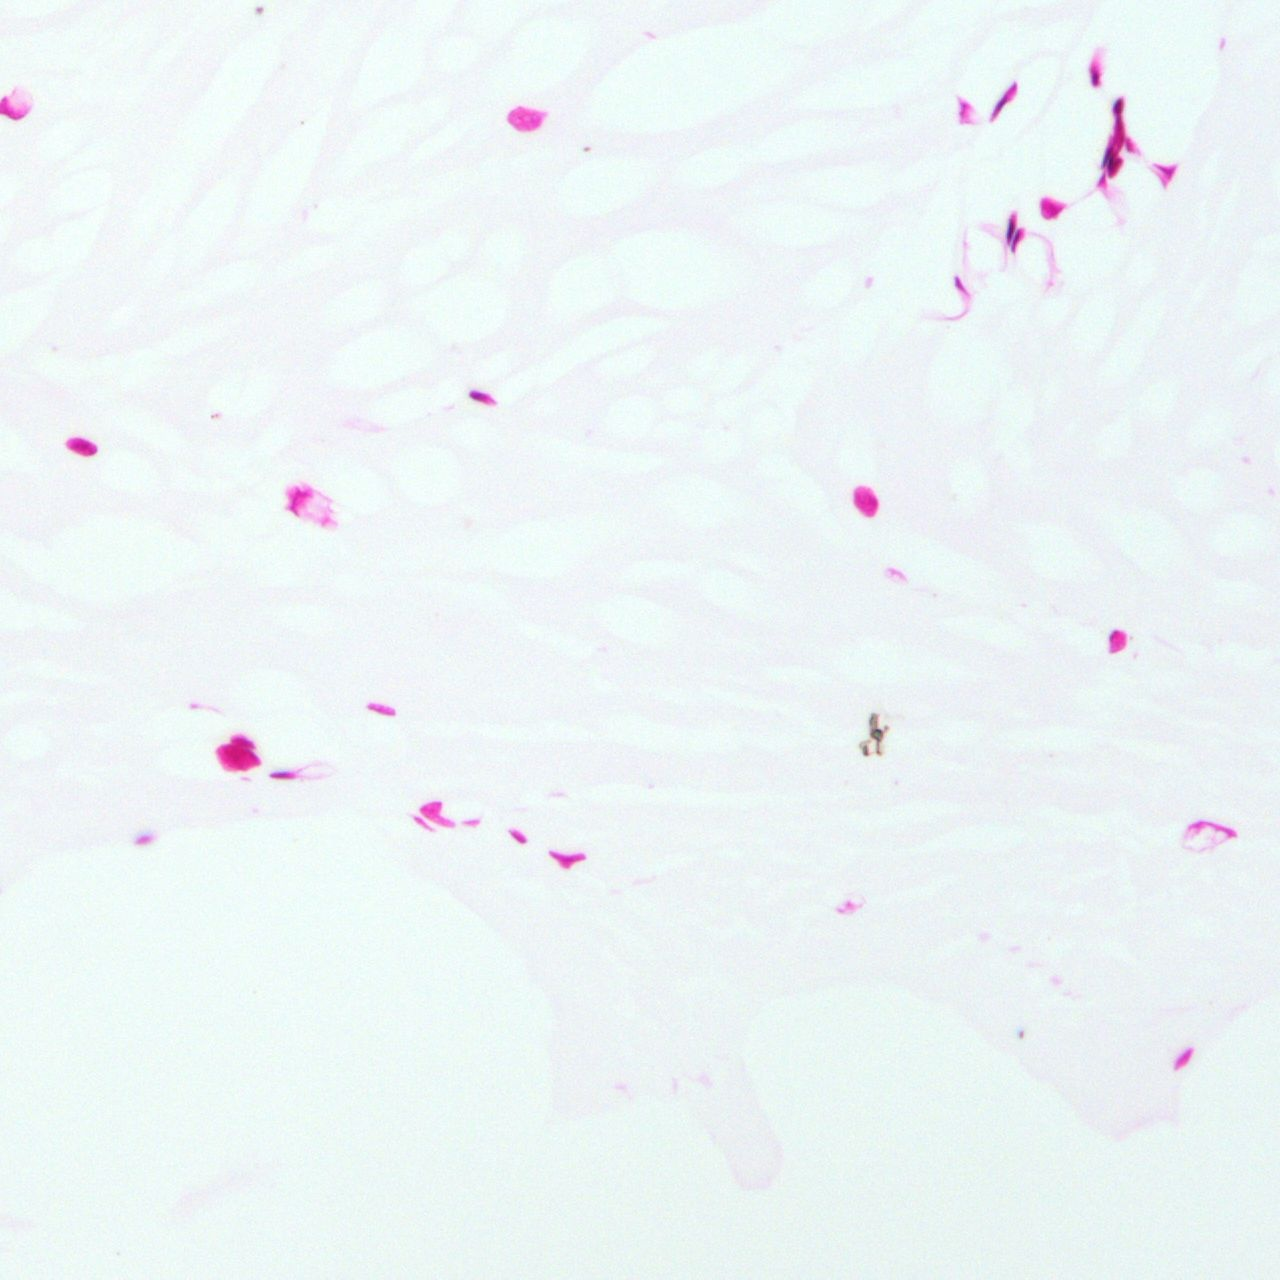dust: (860, 713, 888, 756), (1017, 1028, 1024, 1039), (256, 6, 263, 13)
nucleus-FG: (1098, 93, 1137, 179), (988, 79, 1020, 122), (64, 433, 98, 459), (1172, 1044, 1197, 1073), (467, 387, 498, 406), (1003, 210, 1017, 244), (951, 272, 969, 297), (1109, 629, 1126, 652), (1010, 226, 1024, 253), (959, 96, 971, 123), (1090, 59, 1099, 86), (270, 771, 297, 779)
